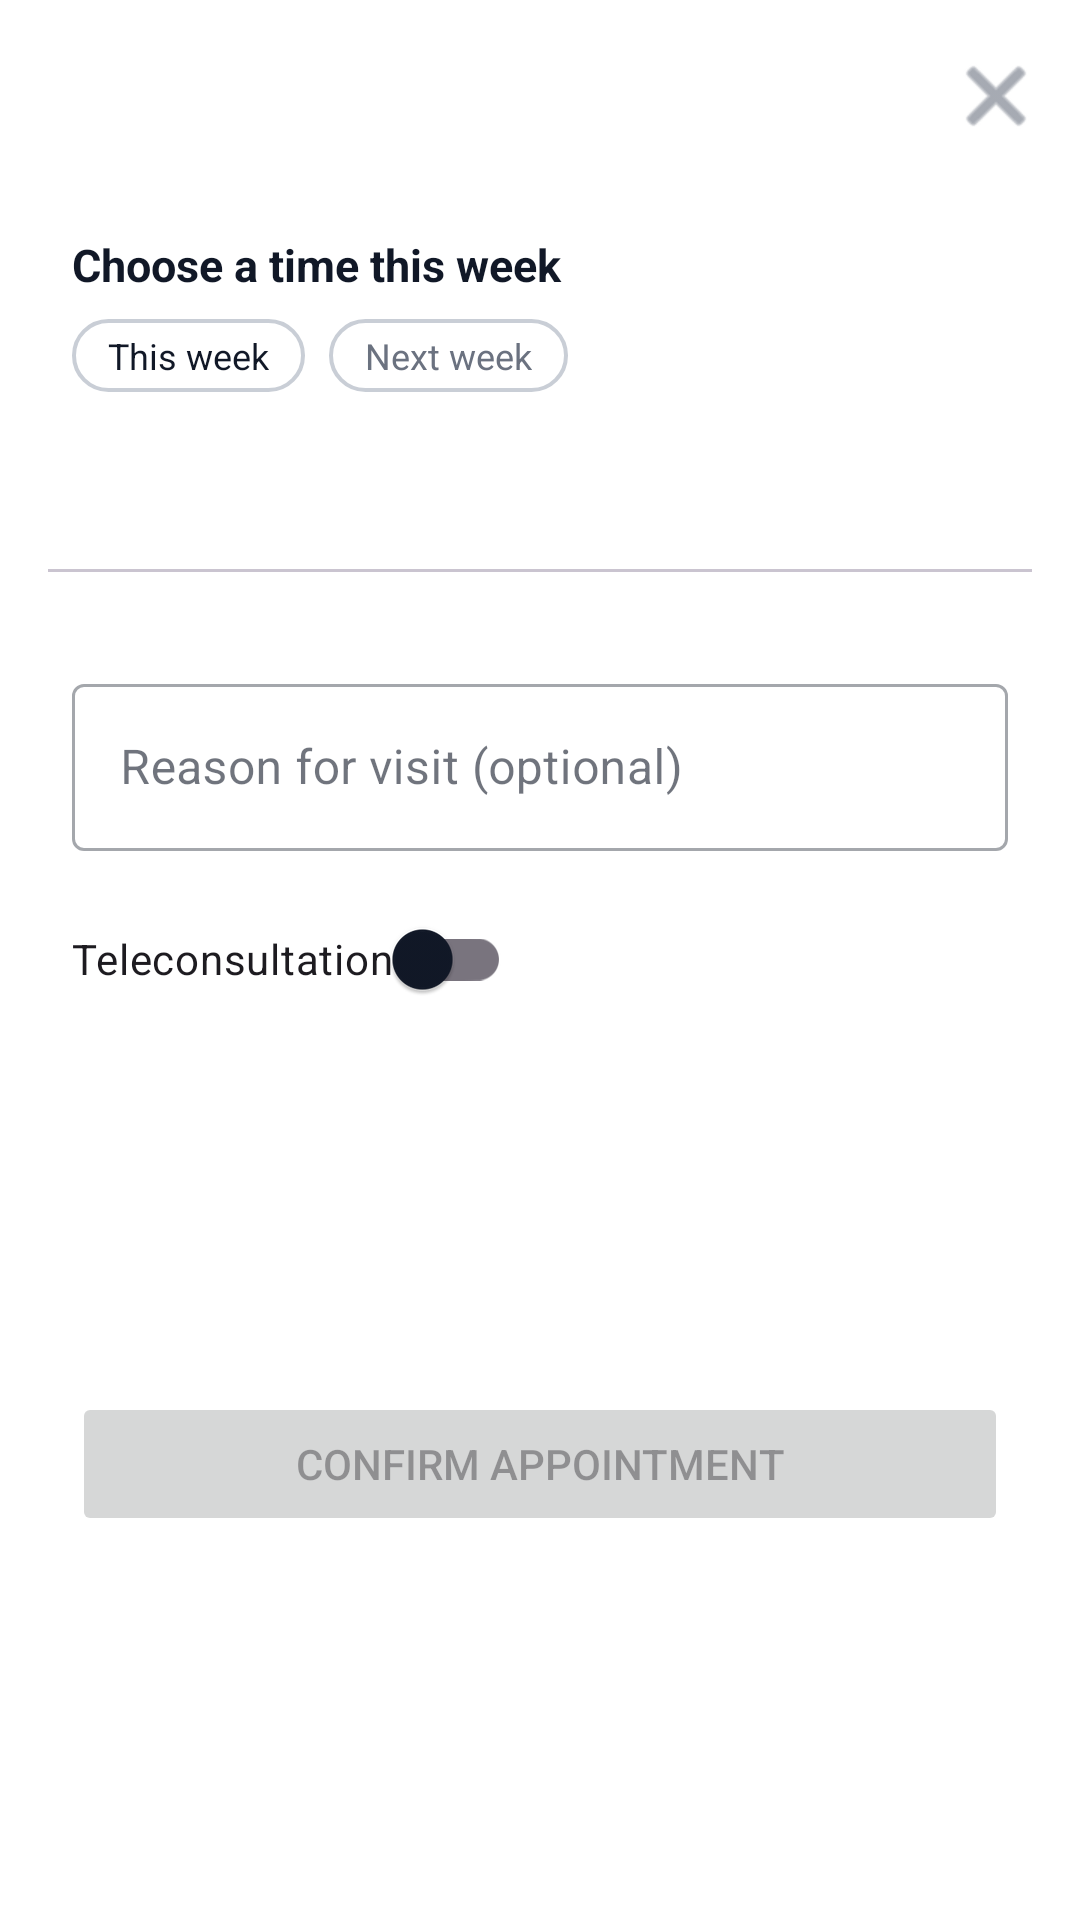

Locate icon controls on the screen. Image size 1080w x 1920h, boxes as bbox=(x1, y1, x2, y2).
close clear cancel: bbox=(966, 66, 1026, 126)
